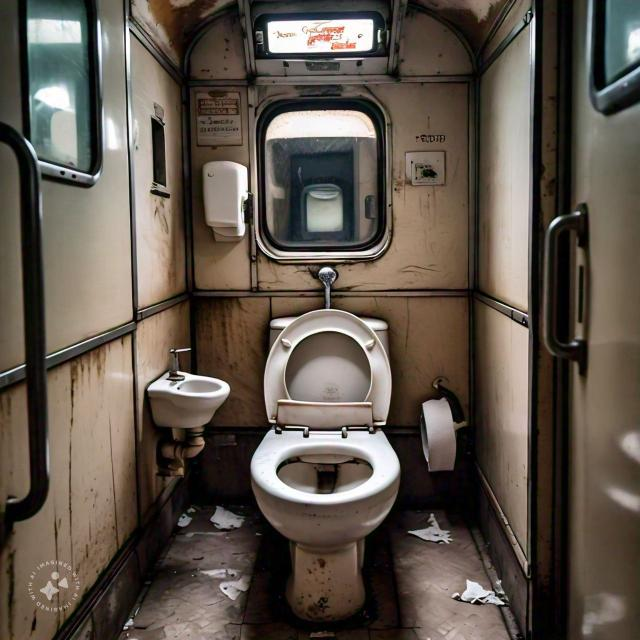Toilet: (135, 253, 507, 584)
Washbasin: (144, 325, 248, 442)
